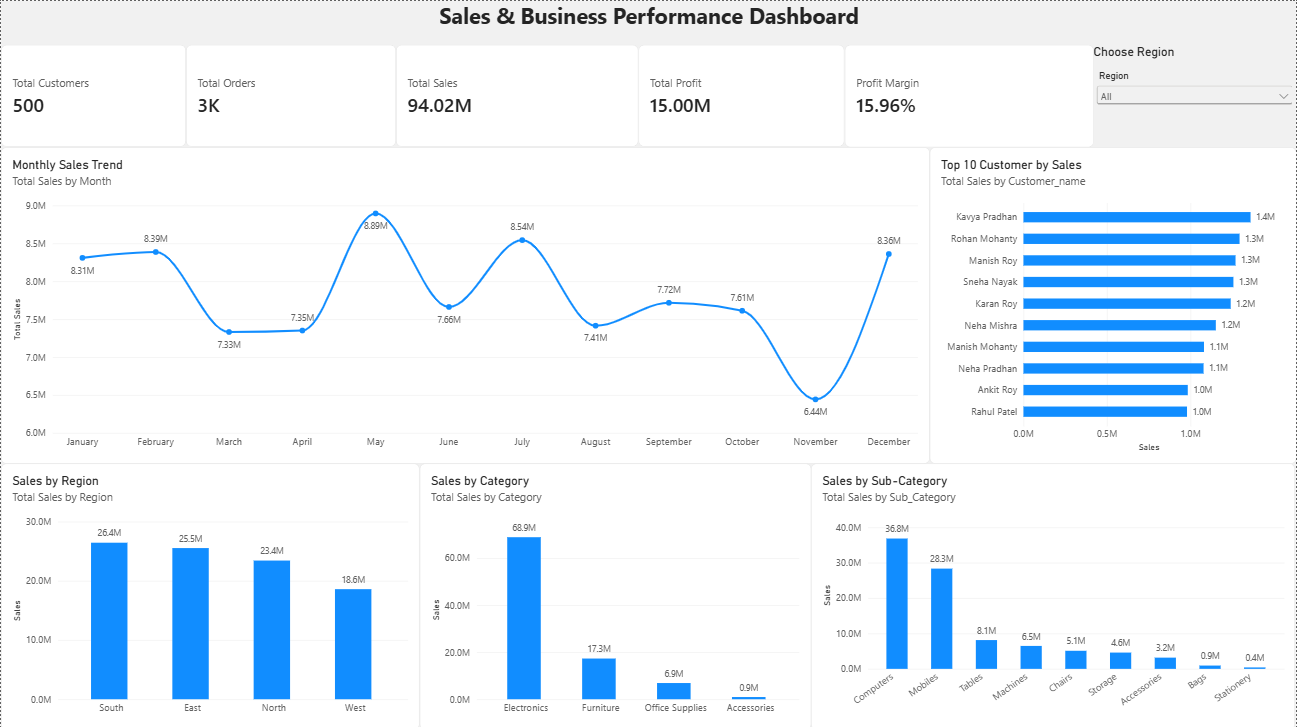

The page's visual inventory and layout, read from the dashboard file:
{"tool":"powerbi","page":{"name":"Page 1","canvas":[1920,1080],"ordinal":0},"visuals":[{"type":"cardVisual","fields":{"Data":["sales_analysis sales.Total Sales"]},"box":[585.2,64.8,359.3,151.9],"z":0},{"type":"cardVisual","fields":{"Data":["sales_analysis sales.Total Profit"]},"box":[944.4,64.8,305.6,151.9],"z":1},{"type":"cardVisual","fields":{"Data":["sales_analysis sales.Total Orders"]},"box":[274.1,64.8,311.1,151.9],"z":2},{"type":"cardVisual","fields":{"Data":["sales_analysis sales.Total Customers"]},"box":[0,64.8,274.1,151.9],"z":3},{"type":"cardVisual","fields":{"Data":["sales_analysis sales.Profit Margin"]},"box":[1250,64.8,369.2,152],"z":4},{"type":"lineChart","title":"Monthly Sales Trend","fields":{"Category":["sales_analysis sales.Order_Date.Variation.Date Hierarchy.Month"],"Y":["sales_analysis sales.Total Sales"]},"box":[0,216.7,1375.9,468.5],"z":5},{"type":"clusteredColumnChart","title":"Sales by Category","fields":{"Category":["sales_analysis sales.Category"],"Y":["sales_analysis sales.Total Sales"]},"box":[620.4,685.2,579.6,394.4],"z":6},{"type":"clusteredColumnChart","title":"Sales by Region","fields":{"Category":["sales_analysis sales.Region"],"Y":["sales_analysis sales.Total Sales"]},"box":[0,685.2,620.4,394.4],"z":7},{"type":"clusteredColumnChart","title":"Sales by Sub-Category","fields":{"Category":["sales_analysis sales.Sub_Category"],"Y":["sales_analysis sales.Total Sales"]},"box":[1200,685.2,718.5,394.4],"z":8},{"type":"clusteredBarChart","title":"Top 10 Customers by Sales","fields":{"Category":["sales_analysis sales.Customer_name"],"Y":["sales_analysis sales.Total Sales"]},"box":[1375.9,216.7,544.4,468.5],"z":9},{"type":"textbox","box":[0,0,1920.1,63.3],"z":10},{"type":"slicer","title":"Choose Region","fields":{"Values":["sales_analysis sales.Region"]},"box":[1618.5,64.8,300,151.9],"z":11}]}

Visuals, with their boxes in screenshot pixels (x1, y1, x2, y2), scaled from the page's 1920x1080 canvas onto the 1297x727 screenshot:
cardVisual - sales_analysis sales.Total Sales: bbox(395, 44, 638, 146)
cardVisual - sales_analysis sales.Total Profit: bbox(638, 44, 844, 146)
cardVisual - sales_analysis sales.Total Orders: bbox(185, 44, 395, 146)
cardVisual - sales_analysis sales.Total Customers: bbox(0, 44, 185, 146)
cardVisual - sales_analysis sales.Profit Margin: bbox(844, 44, 1094, 146)
"Monthly Sales Trend" lineChart: bbox(0, 146, 929, 461)
"Sales by Category" clusteredColumnChart: bbox(419, 461, 811, 726)
"Sales by Region" clusteredColumnChart: bbox(0, 461, 419, 726)
"Sales by Sub-Category" clusteredColumnChart: bbox(811, 461, 1296, 726)
"Top 10 Customers by Sales" clusteredBarChart: bbox(929, 146, 1296, 461)
textbox: bbox(0, 0, 1296, 43)
"Choose Region" slicer: bbox(1093, 44, 1296, 146)
